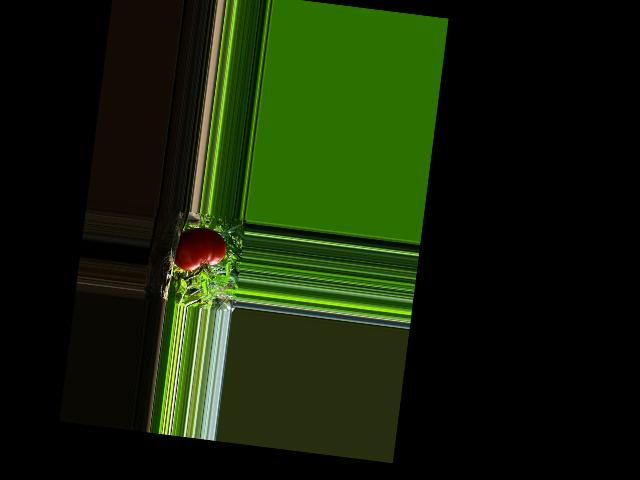tomato: (173, 225, 228, 275)
